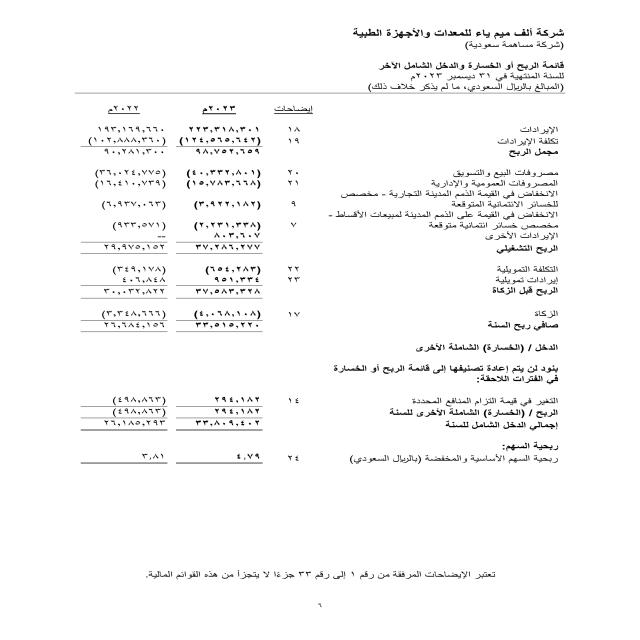financial_sheets: (372, 57, 569, 72)
table: (66, 103, 324, 467)
